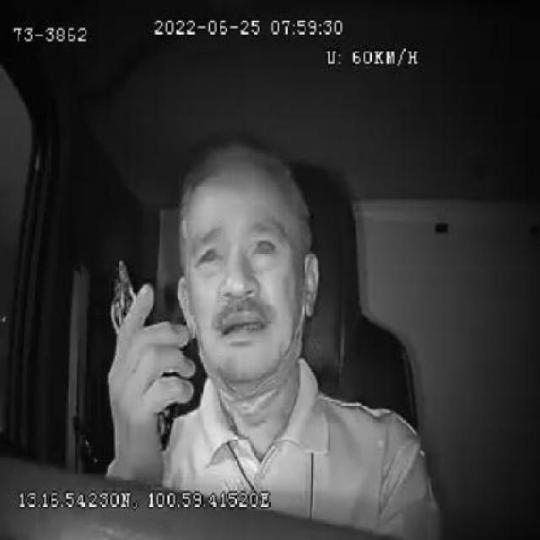phone: (105, 254, 179, 454)
